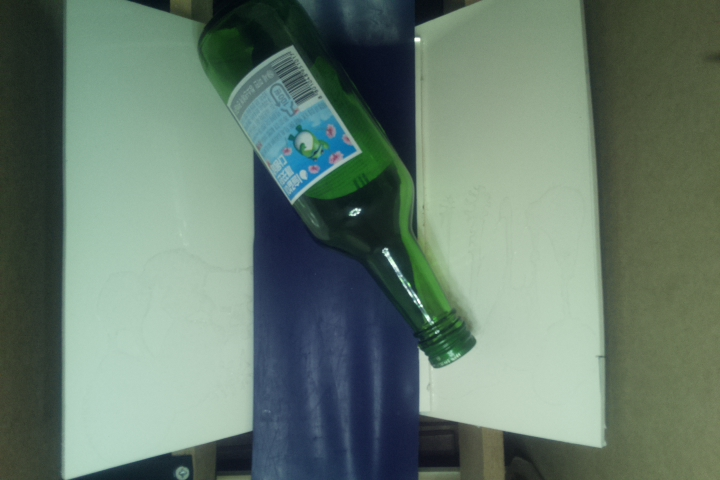soju: (195, 1, 477, 368)
